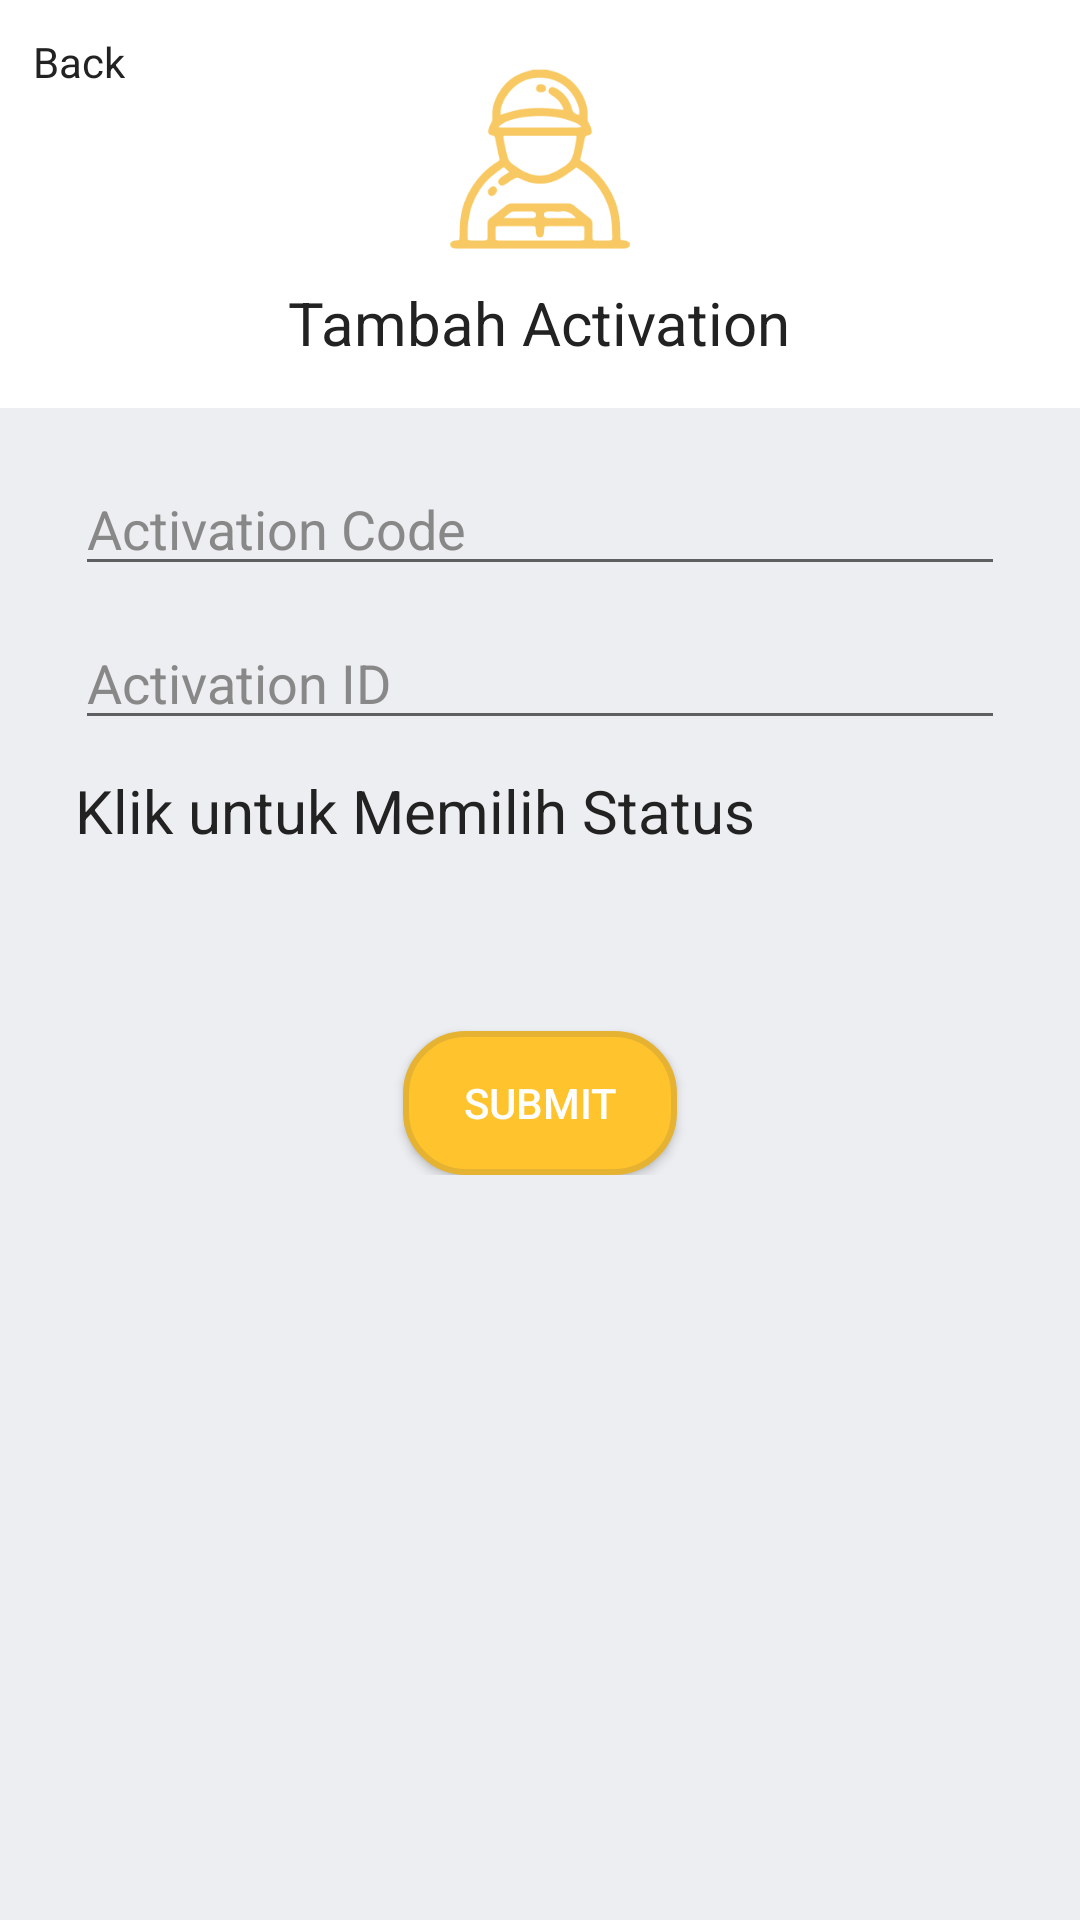

Named icons in this screenshot (1080*1920) and their bounding boxes, (x1, y1, x2, y2):
iconsales: (450, 69, 630, 249)
